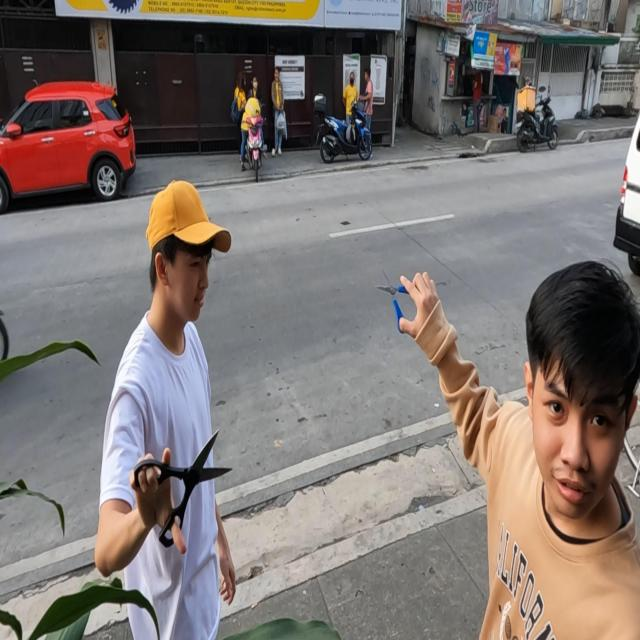scissor: (134, 428, 233, 548), (374, 268, 408, 334)
